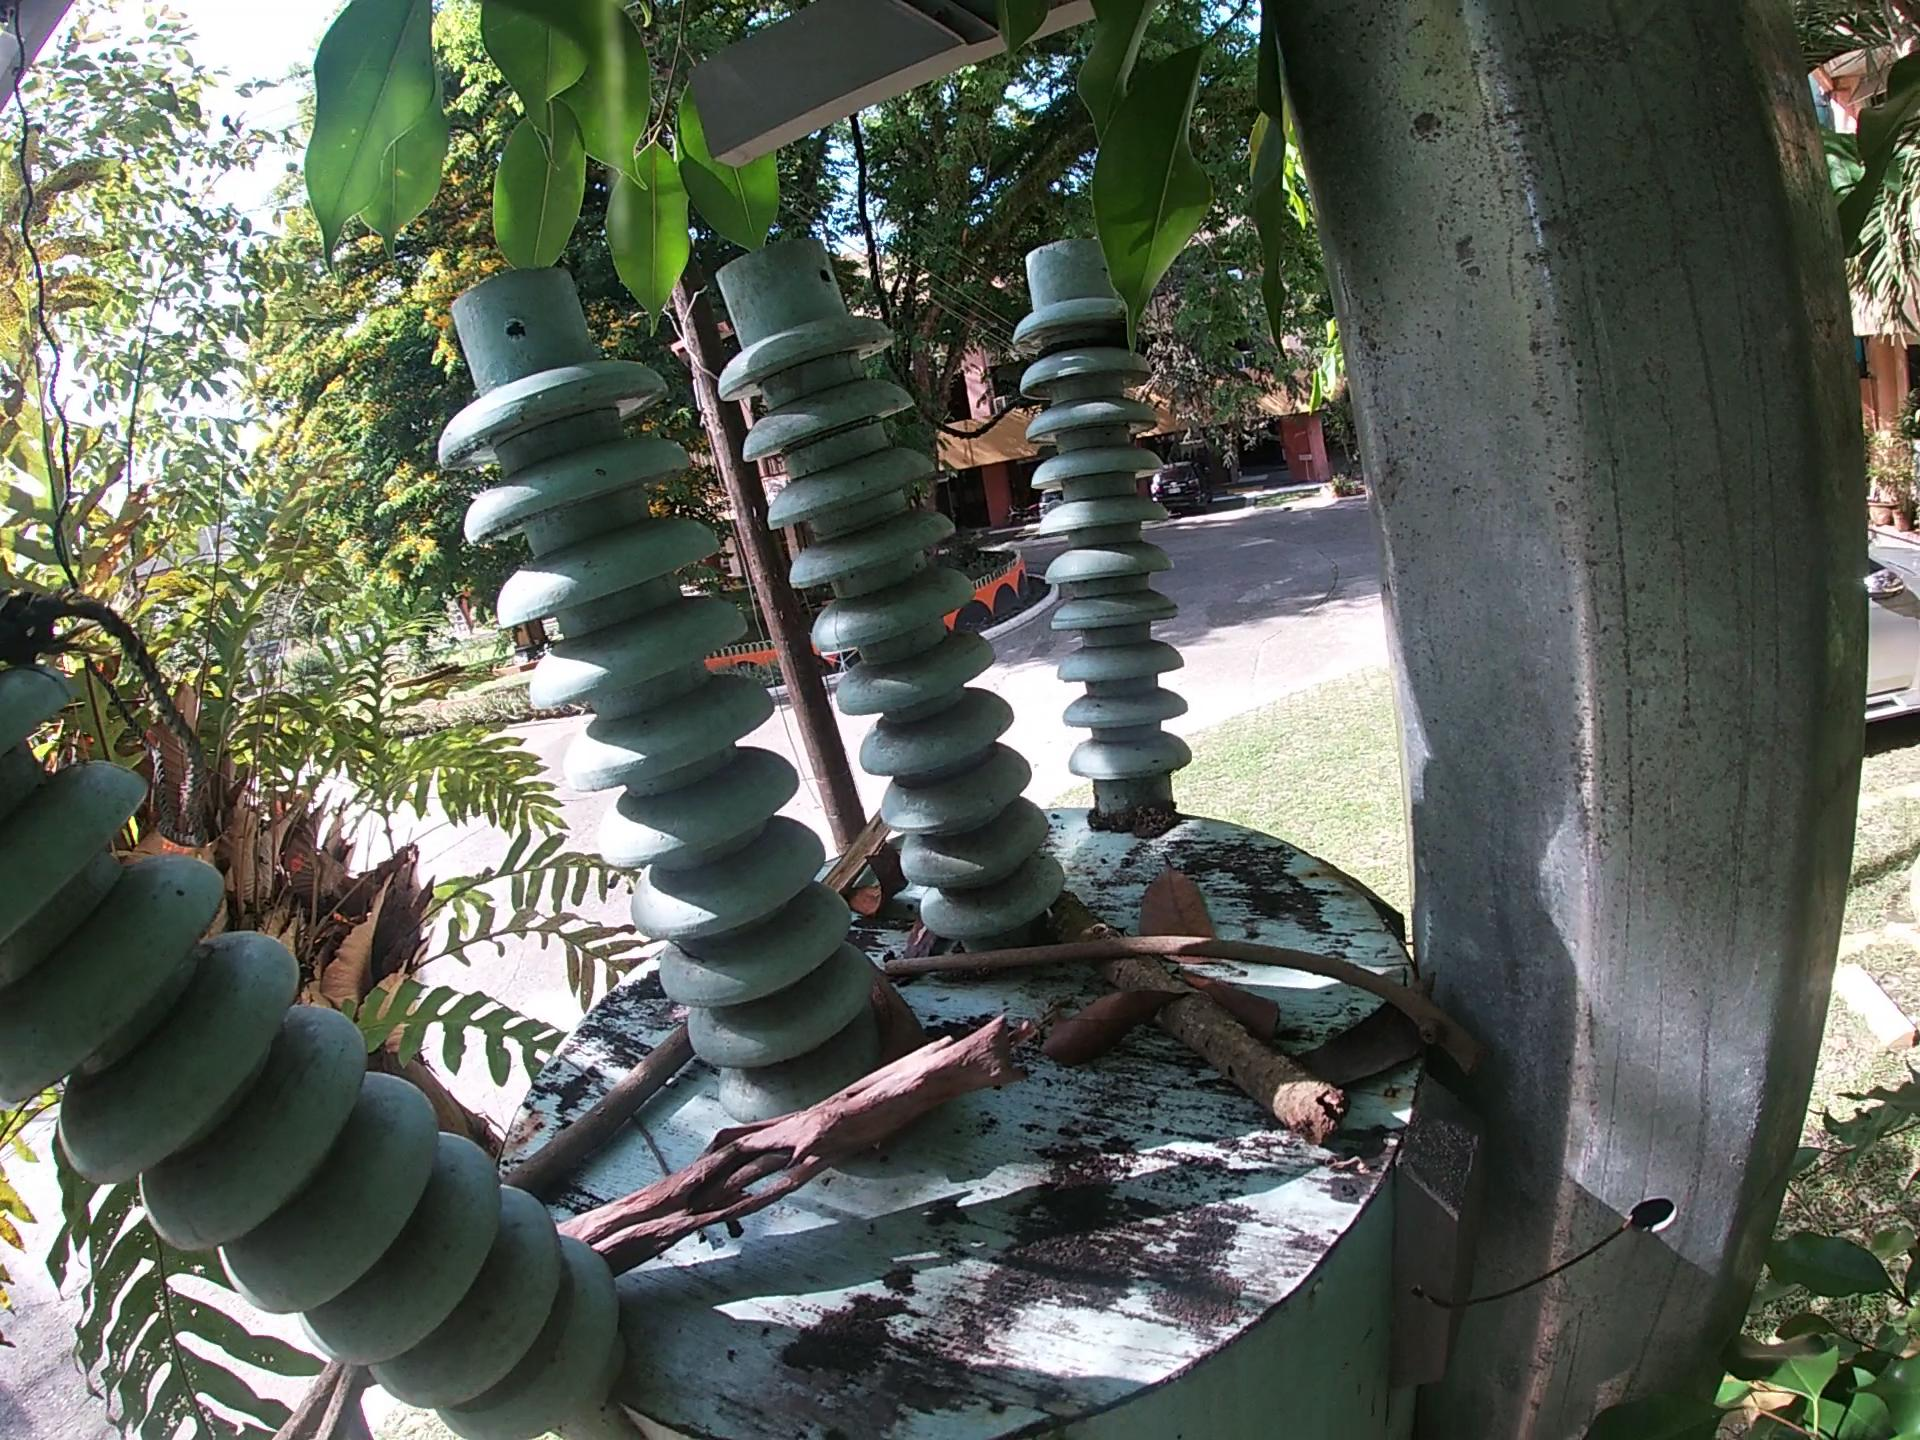leaf: (1287, 962, 1429, 1088), (1031, 976, 1197, 1075), (1172, 957, 1285, 1050), (1126, 850, 1226, 942)
mahogany fruit: (851, 953, 931, 1069), (847, 830, 915, 924)
tree branch: (552, 1004, 1048, 1275), (881, 929, 1494, 1088), (1048, 880, 1358, 1139), (500, 1015, 700, 1201), (822, 808, 893, 905)
